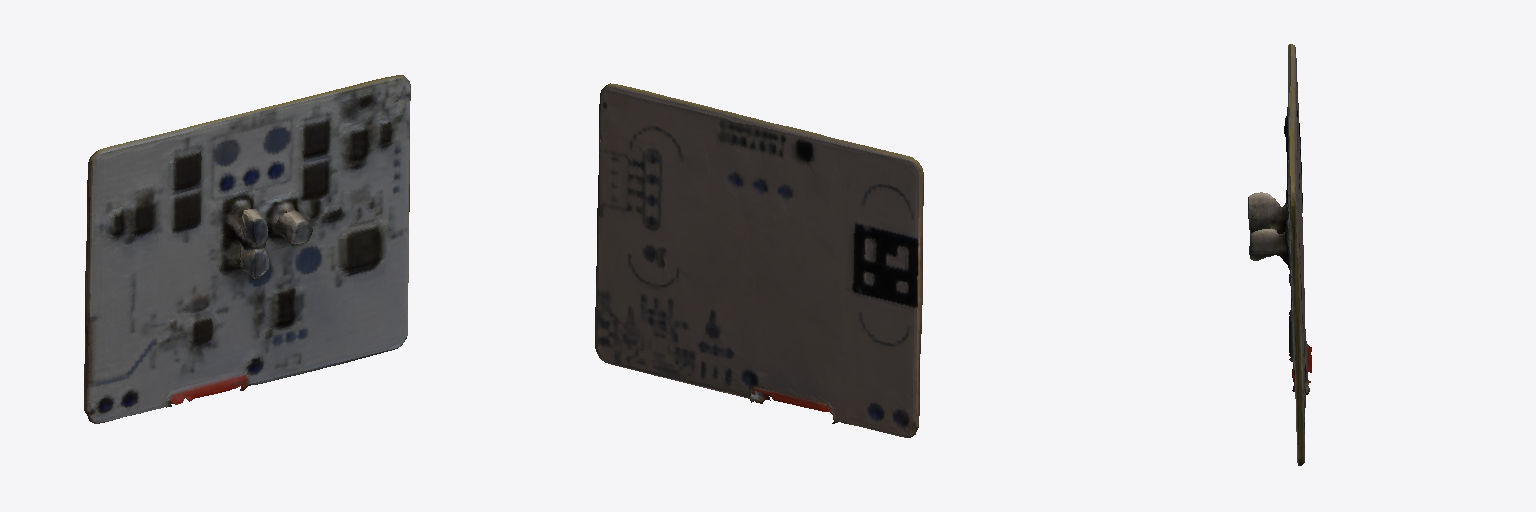
3 views of the same model, side by side, from view 1: azimuth 30°, elevation 25°; view 2: azimuth 150°, elevation 25°; view 3: azimuth 270°, elevation 25° (orthographic).
Parts seen in each view (by area): view 1: mesh; view 2: mesh; view 3: mesh.
Part boxes in pixels (x1,y1,x2,y2): mesh: (84,75,410,423); mesh: (595,83,923,437); mesh: (1248,44,1311,465).
Bounding box in the file's own units: 65.29 × 54.08 × 11.23.
Materials: 1 (1 with a texture image).